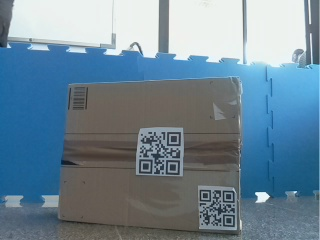caja: (68, 82, 239, 230)
